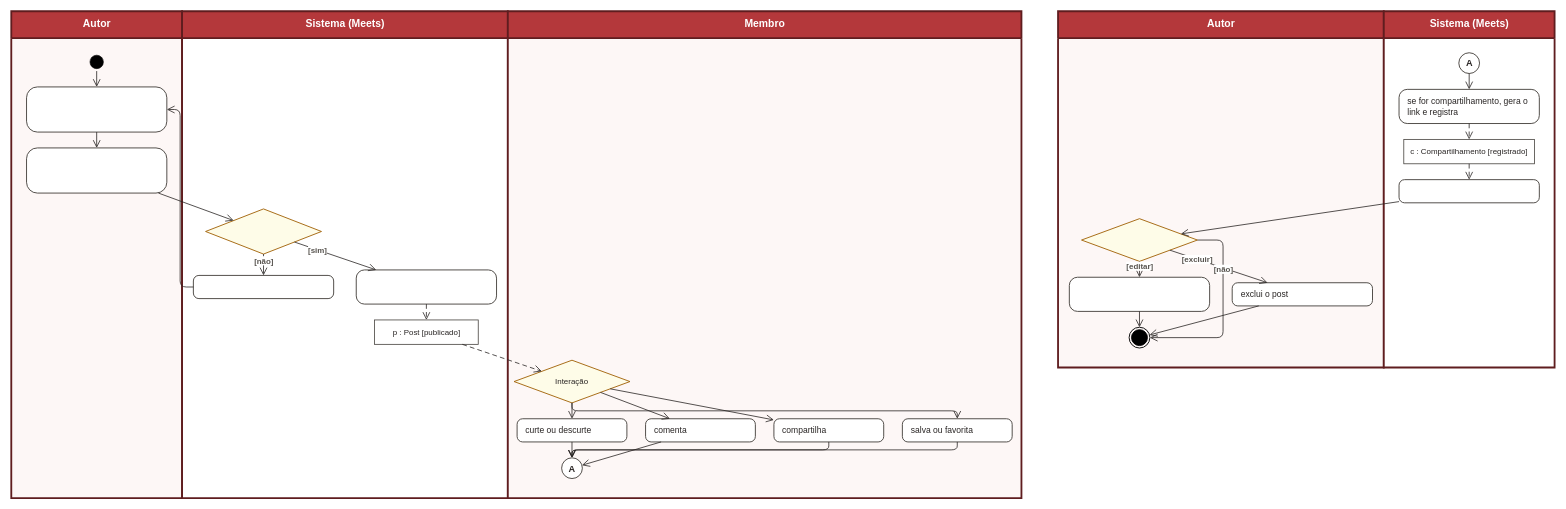
This 1566x509 diagram has some shape labels left out. Each missing label, with the centre of its shape:
atualiza contadores e o histórico: point 1469,191
Autor quer alterar?: point 1139,240
edita o post (volta a ser publicado): point 1139,294
escolhe quem vê: público, seguidores, selecionados ou só com link: point 96,170
escreve o texto, escolhe imagem opcional e pode mencionar um evento: point 96,109
pede correção: point 263,287
publica e mostra no feed só para quem pode ver: point 426,286
Texto preenchido e imagem no limite?: point 263,231
